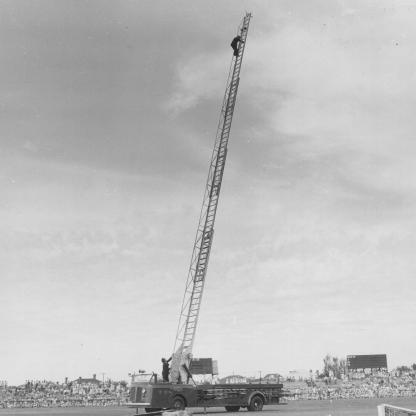Truck: (122, 9, 286, 414)
